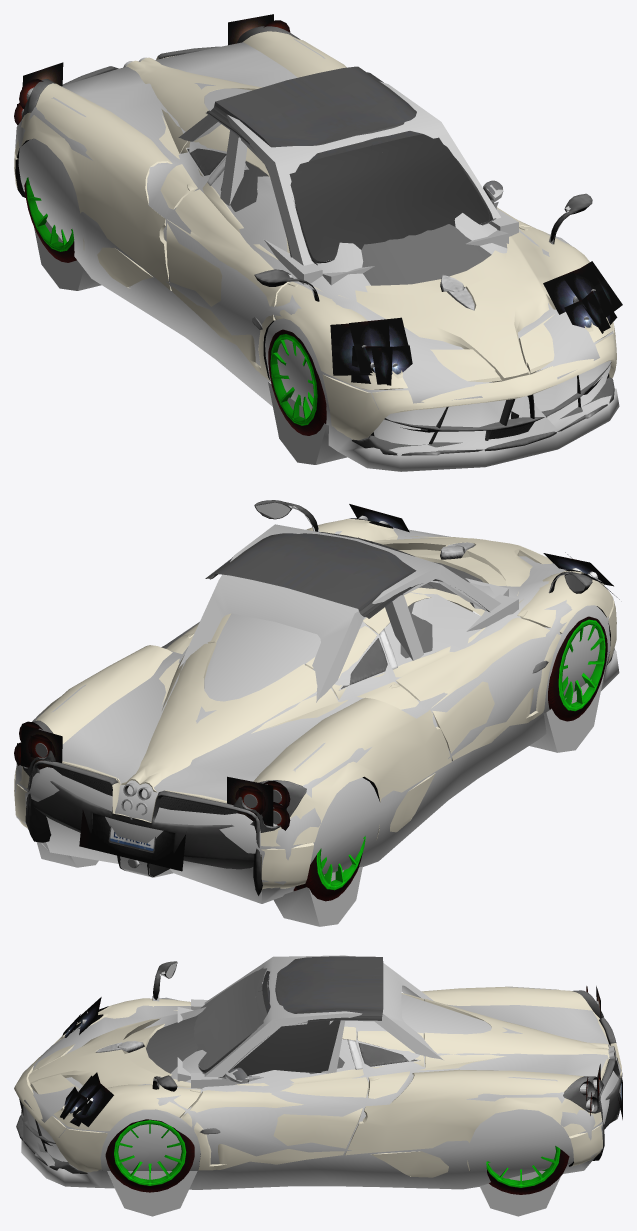
Rendered from P_car-020_Buhaira.fbx.
3 renders of one model, top to bottom at view 1: azimuth 30°, elevation 25°; view 2: azimuth 150°, elevation 25°; view 3: azimuth 270°, elevation 25°, orthographic. The views are drawn at different scales.
Parts seen in each view (by area): view 1: M_Car-020_Body_Buhaira_01, M_Car-020_ShadowForm_Buhaira_01, M_Car-Interior_Glass_01, M_Car-Interior_Details_01, M_Car-Interior_Shadowform_01, M_Car-020_Details_Buhaira_01, M_Car-020_FrontFlares_Buhaira_01, M_Car-020_Glass_Buhaira_01, M_CarTire_005_AP_02 (×2), M_CarWheel_005_AP_02, M_Car-020_BackLights_Buhaira_01, M_CarTire_005_AP_01; view 2: M_Car-020_ShadowForm_Buhaira_01, M_Car-020_Body_Buhaira_01, M_Car-020_Details_Buhaira_01, M_Car-Interior_Shadowform_01, M_Car-Interior_Details_01, M_Car-020_BackFlares_Buhaira_01, M_CarWheel_005_AP_02 (×2), M_CarTire_005_AP_02 (×2), M_Car-020_BackLights_Buhaira_01, M_Car-020_Glass_Buhaira_01, M_Car-020_FrontFlares_Buhaira_01, M_Car-020_BackFlaresBrake_Buhaira_01 (+1 smaller); view 3: M_Car-020_ShadowForm_Buhaira_01, M_Car-020_Body_Buhaira_01, M_Car-Interior_Glass_01, M_Car-Interior_Shadowform_01, M_Car-Interior_Details_01, M_Car-020_Details_Buhaira_01, M_CarWheel_005_AP_02 (×2), M_Car-020_FrontFlares_Buhaira_01, M_Car-020_Glass_Buhaira_01, M_CarTire_005_AP_02 (×2), M_CarTire_005_AP_01.
Part boxes in pixels (bbox=[...]): M_Car-020_Body_Buhaira_01: bbox=[14, 31, 616, 440]; M_Car-020_ShadowForm_Buhaira_01: bbox=[15, 38, 619, 471]; M_Car-Interior_Glass_01: bbox=[289, 134, 489, 261]; M_Car-Interior_Details_01: bbox=[206, 66, 502, 265]; M_Car-Interior_Shadowform_01: bbox=[178, 81, 518, 285]; M_Car-020_Details_Buhaira_01: bbox=[15, 26, 614, 455]; M_Car-020_FrontFlares_Buhaira_01: bbox=[330, 261, 622, 385]; M_Car-020_Glass_Buhaira_01: bbox=[220, 161, 595, 430]; M_CarTire_005_AP_02 (×2): bbox=[26, 185, 317, 425]; M_CarWheel_005_AP_02: bbox=[268, 329, 326, 435]; M_Car-020_BackLights_Buhaira_01: bbox=[22, 14, 273, 86]; M_CarTire_005_AP_01: bbox=[270, 334, 317, 395]; M_Car-020_ShadowForm_Buhaira_01: bbox=[15, 502, 619, 926]; M_Car-020_Body_Buhaira_01: bbox=[14, 518, 616, 890]; M_Car-020_Details_Buhaira_01: bbox=[22, 500, 614, 895]; M_Car-Interior_Shadowform_01: bbox=[178, 524, 518, 702]; M_Car-Interior_Details_01: bbox=[205, 531, 489, 618]; M_Car-020_BackFlares_Buhaira_01: bbox=[14, 721, 290, 871]; M_CarWheel_005_AP_02 (×2): bbox=[293, 616, 607, 901]; M_CarTire_005_AP_02 (×2): bbox=[316, 647, 605, 890]; M_Car-020_BackLights_Buhaira_01: bbox=[20, 725, 273, 826]; M_Car-020_Glass_Buhaira_01: bbox=[35, 562, 482, 867]; M_Car-020_FrontFlares_Buhaira_01: bbox=[349, 504, 619, 599]; M_Car-020_BackFlaresBrake_Buhaira_01: bbox=[17, 723, 286, 829]; M_Car-020_ShadowForm_Buhaira_01: bbox=[21, 962, 621, 1216]; M_Car-020_Body_Buhaira_01: bbox=[14, 986, 621, 1177]; M_Car-Interior_Glass_01: bbox=[193, 968, 340, 1076]; M_Car-Interior_Shadowform_01: bbox=[177, 955, 443, 1088]; M_Car-Interior_Details_01: bbox=[198, 956, 383, 1081]; M_Car-020_Details_Buhaira_01: bbox=[16, 961, 622, 1173]; M_CarWheel_005_AP_02 (×2): bbox=[105, 1119, 569, 1194]; M_Car-020_FrontFlares_Buhaira_01: bbox=[60, 997, 113, 1126]; M_Car-020_Glass_Buhaira_01: bbox=[45, 1012, 620, 1142]; M_CarTire_005_AP_02 (×2): bbox=[114, 1151, 560, 1187]; M_CarTire_005_AP_01: bbox=[114, 1120, 186, 1153].
Size of the model in its own units: 2.22 by 1.52 by 4.56.
